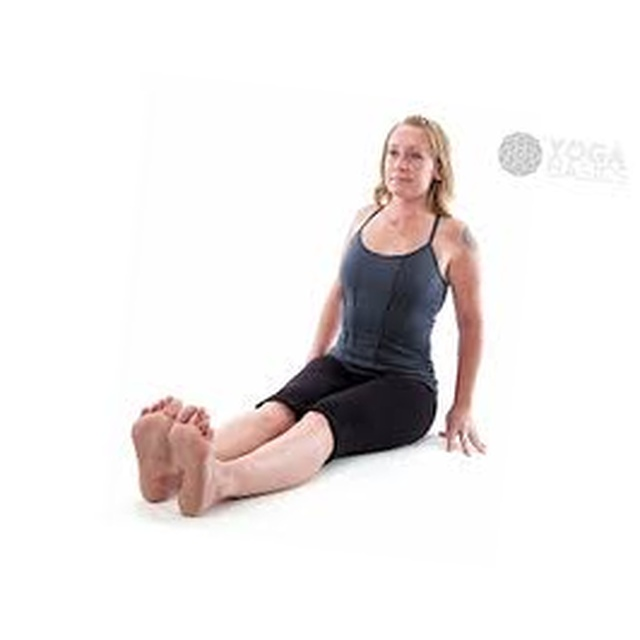Staff_Pose: (129, 115, 487, 519)
